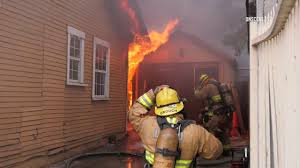emergent: (131, 89, 213, 168), (192, 74, 238, 145)
